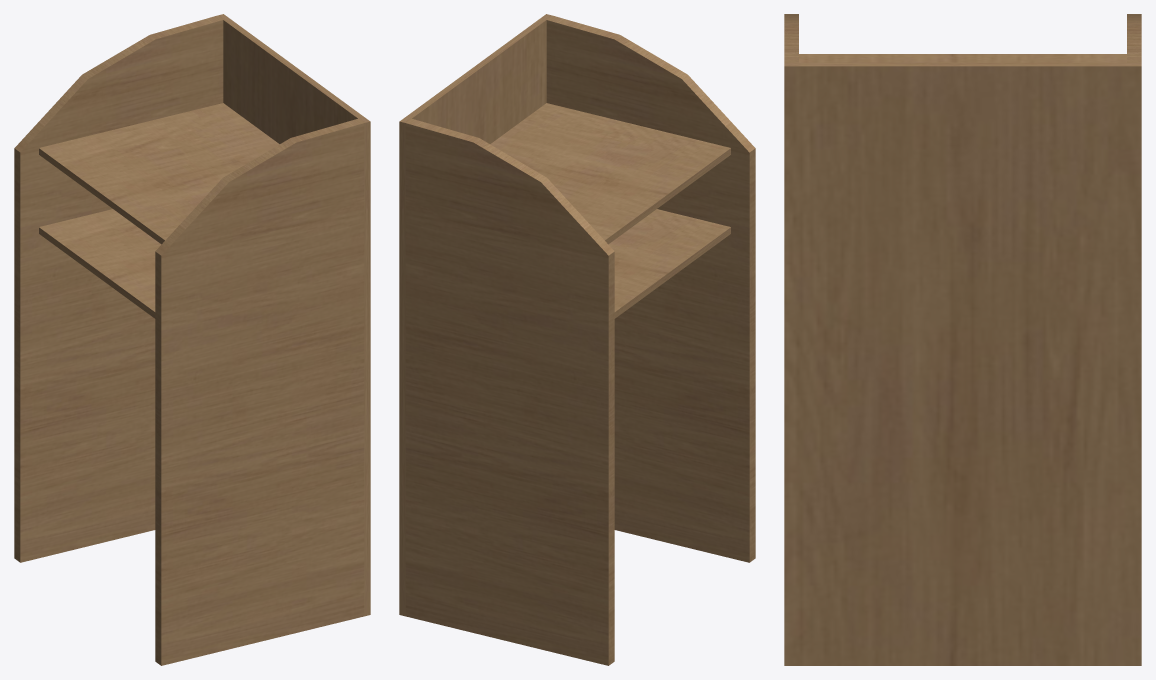
Rendered from lecture table1.FBX.
3 views of the same model, side by side, from view 1: azimuth 30°, elevation 25°; view 2: azimuth 150°, elevation 25°; view 3: azimuth 270°, elevation 25° (orthographic). The views are drawn at different scales.
Visible parts, largest first — view 1: lecture table1; view 2: lecture table1; view 3: lecture table1.
Part boxes in pixels (<box>): lecture table1: <box>14,14,370,665</box>; lecture table1: <box>399,14,755,665</box>; lecture table1: <box>784,14,1141,665</box>.
Size of the model in its own units: 3.99 by 9 by 4.86.
